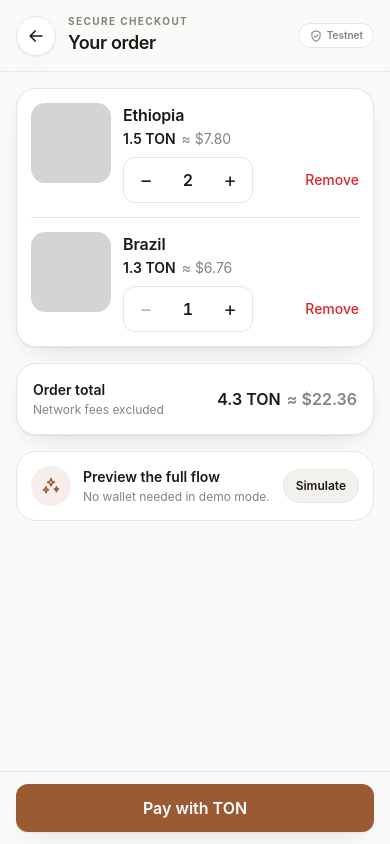
Test: <Cart /> › removes a line item
Expected: the text "Ethiopia" is shown, left=123, top=105, right=184, bottom=125
Click the button with aria-label "remove brazil" at (332, 309), box left=305, top=299, right=359, bottom=319
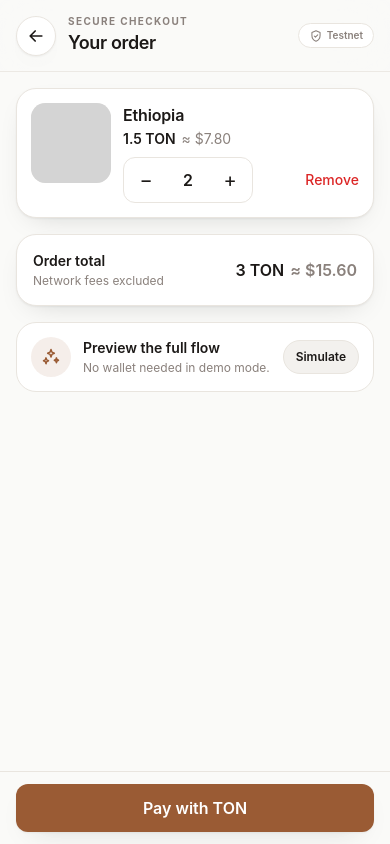
Expected: the text "Ethiopia" is shown, left=123, top=105, right=184, bottom=125
Now the text "Brazil" is gone
